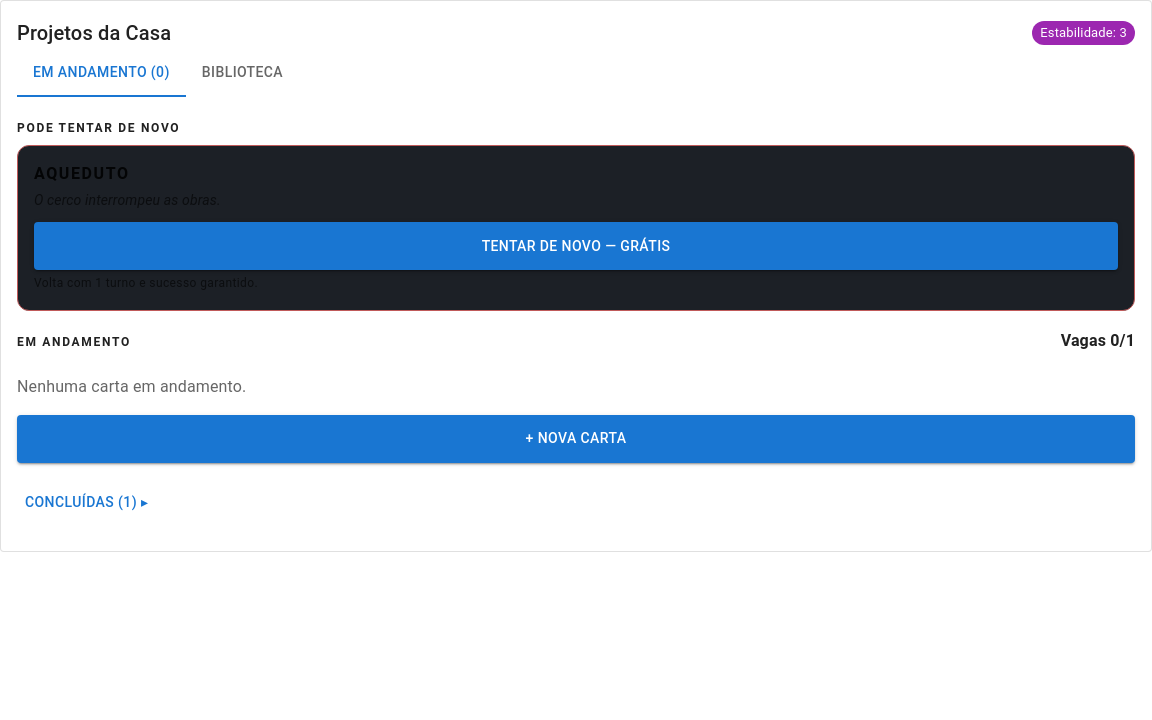
HouseProjectsPanel — finished projects › shows success and failure badges with the AI narrative
Check: the text "Pode tentar de novo" is shown, box [17,121,180,135]
Click the button "Concluídas (1) ▸".
click(87, 503)  # box [17,479,156,527]
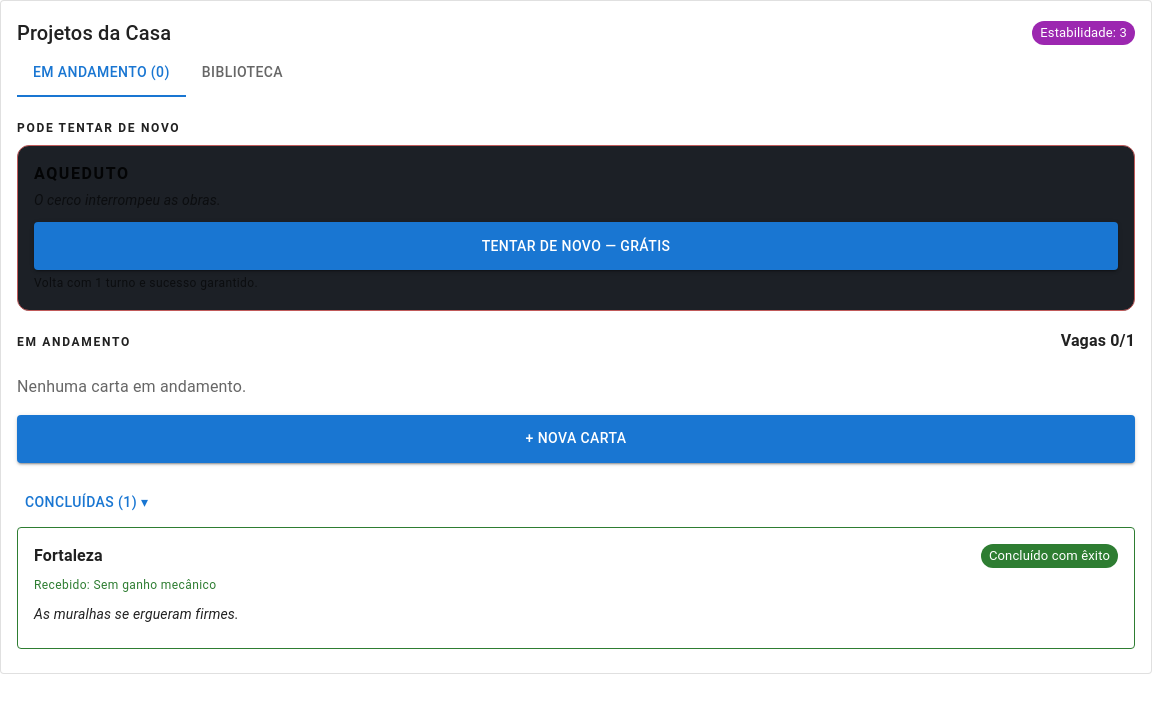
Check: the text "Concluído com êxito" is shown, box [981,546,1118,566]
Check: the text "As muralhas se ergueram firmes." is shown, box [34,606,239,622]
